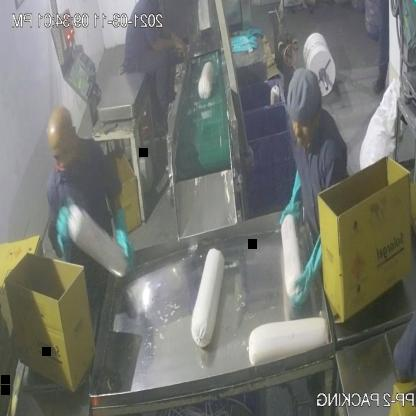glove: (289, 226, 332, 302), (101, 204, 136, 277), (51, 194, 80, 264), (283, 167, 308, 240)
no_glove: (153, 34, 192, 62)
